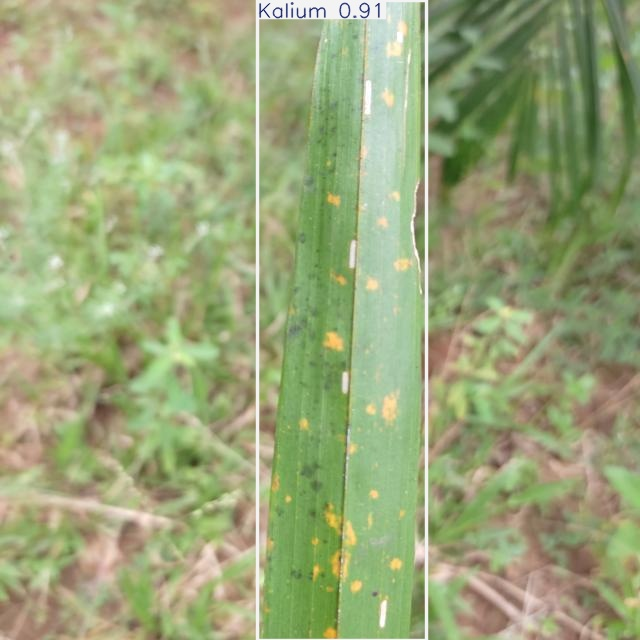Kalium: (257, 0, 426, 640)
